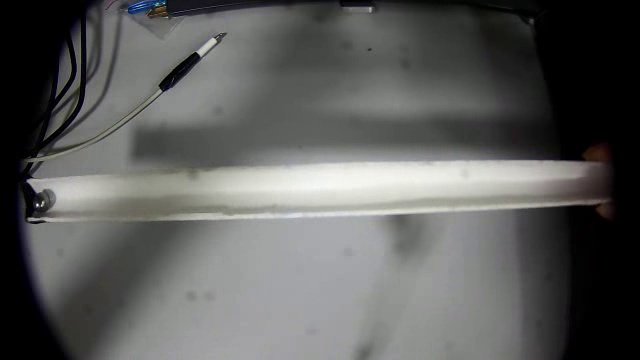gangzhu: (15, 180, 55, 219)
